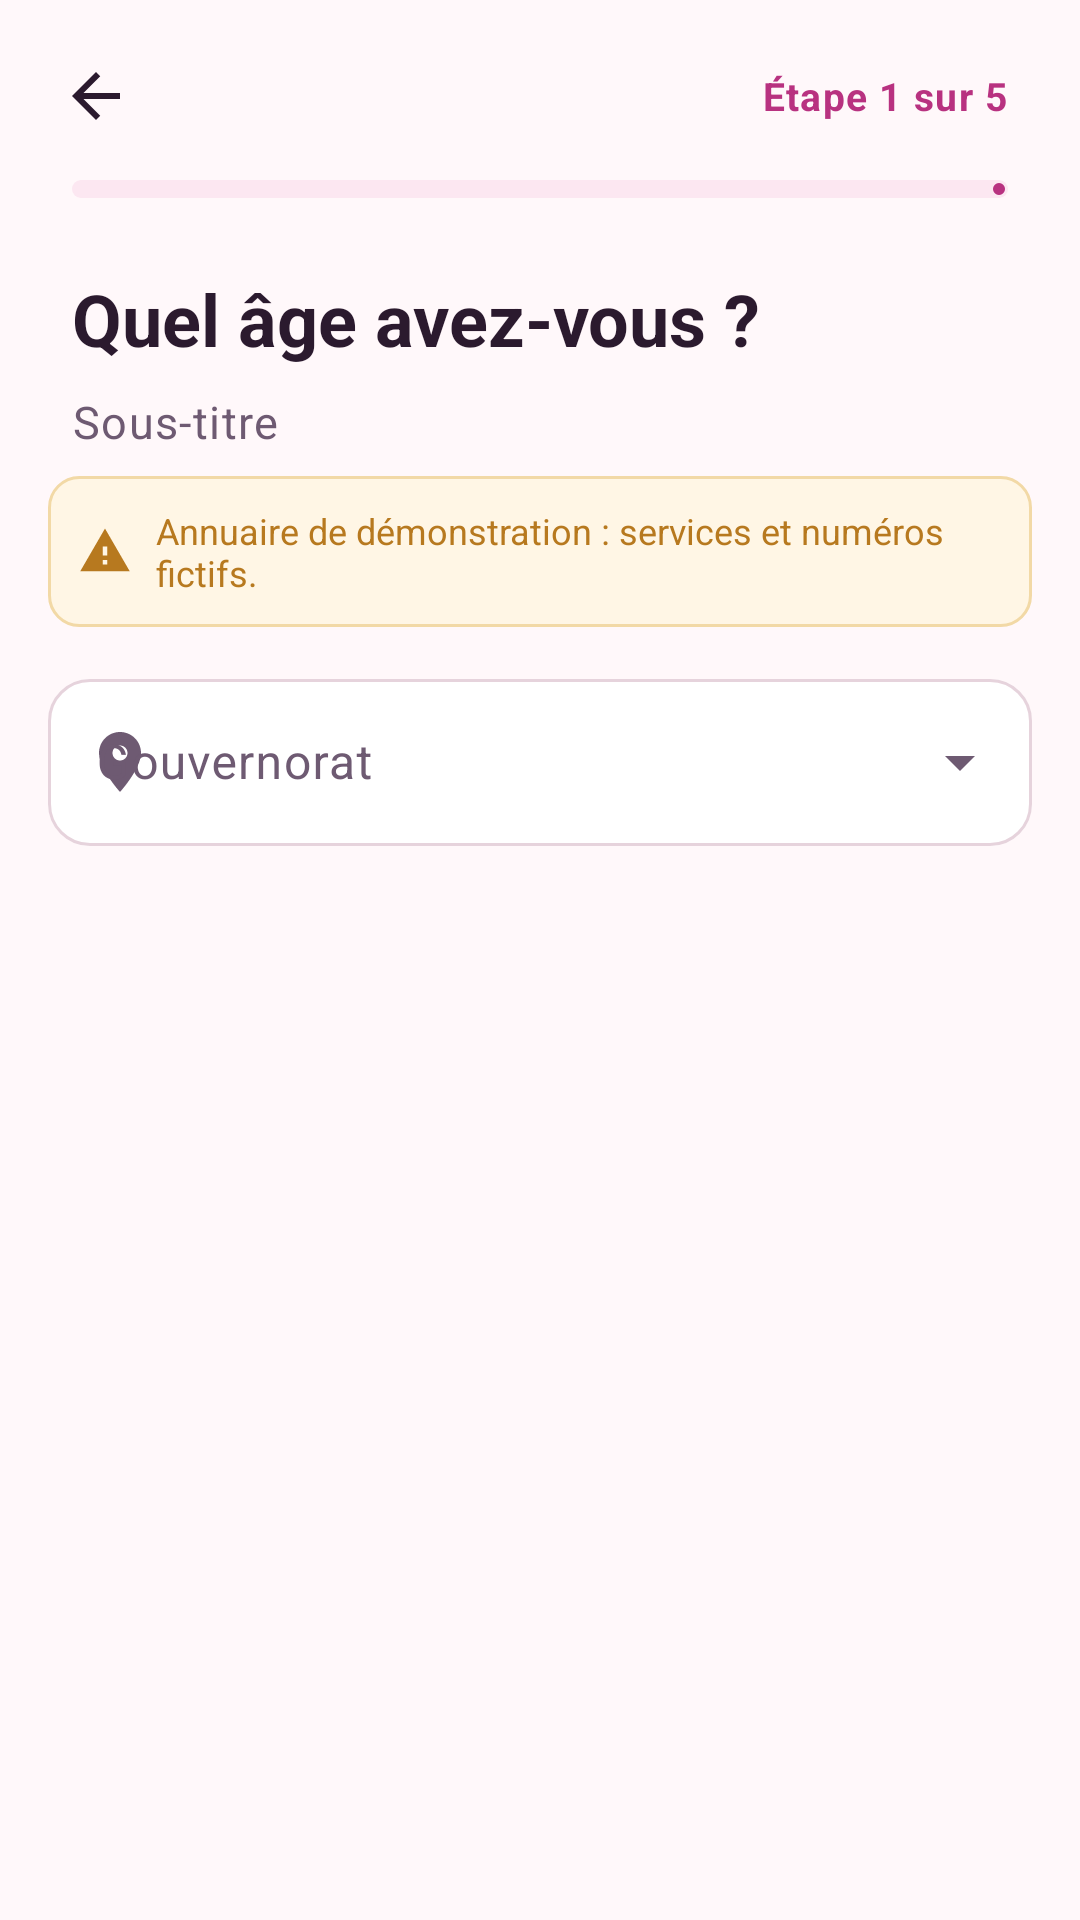

Screen size 1080 × 1920. Icon name, then its box in pixels as (x1, y1, x2, y2):
Retour: (72, 72, 120, 120)
warning: (80, 529, 130, 572)
